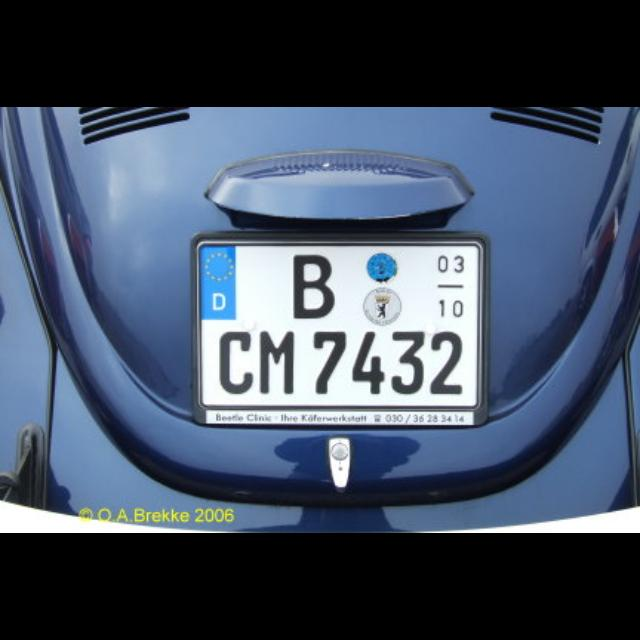d_license_plate: (197, 244, 478, 406)
